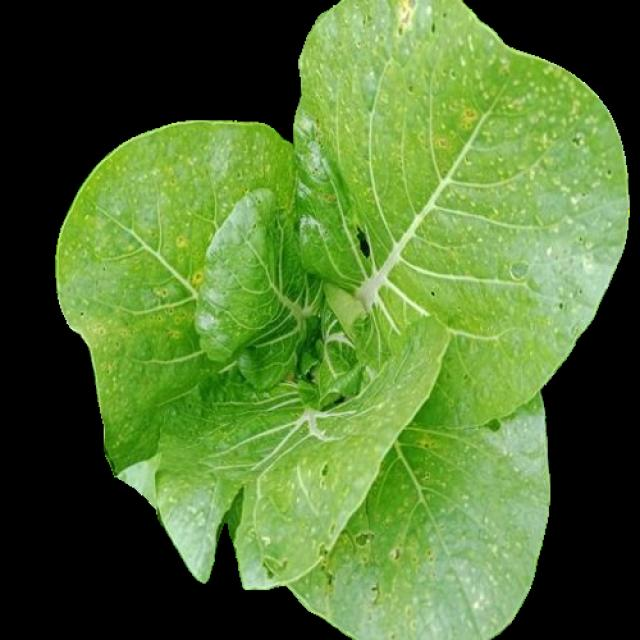mature: (56, 2, 629, 640)
unhealthy: (58, 123, 446, 593), (293, 1, 622, 421), (288, 409, 549, 640)
